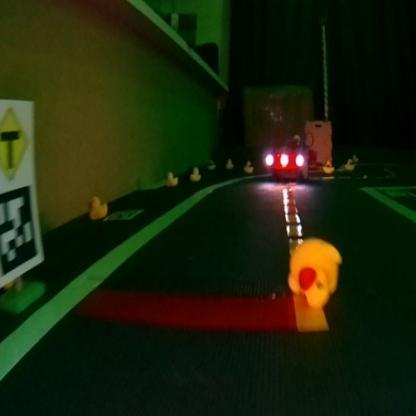duckie: (281, 219, 355, 314), (82, 188, 110, 224), (340, 151, 356, 177), (162, 167, 178, 191), (190, 157, 204, 182), (323, 154, 334, 179)
duckiebot: (257, 131, 316, 186)
